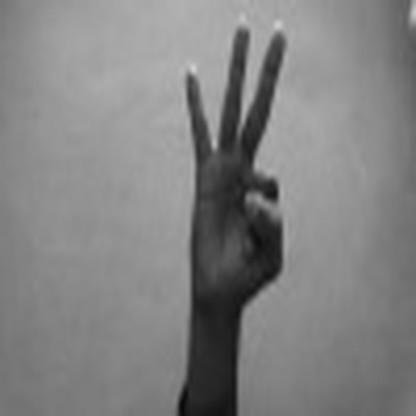f: (161, 12, 308, 317)
